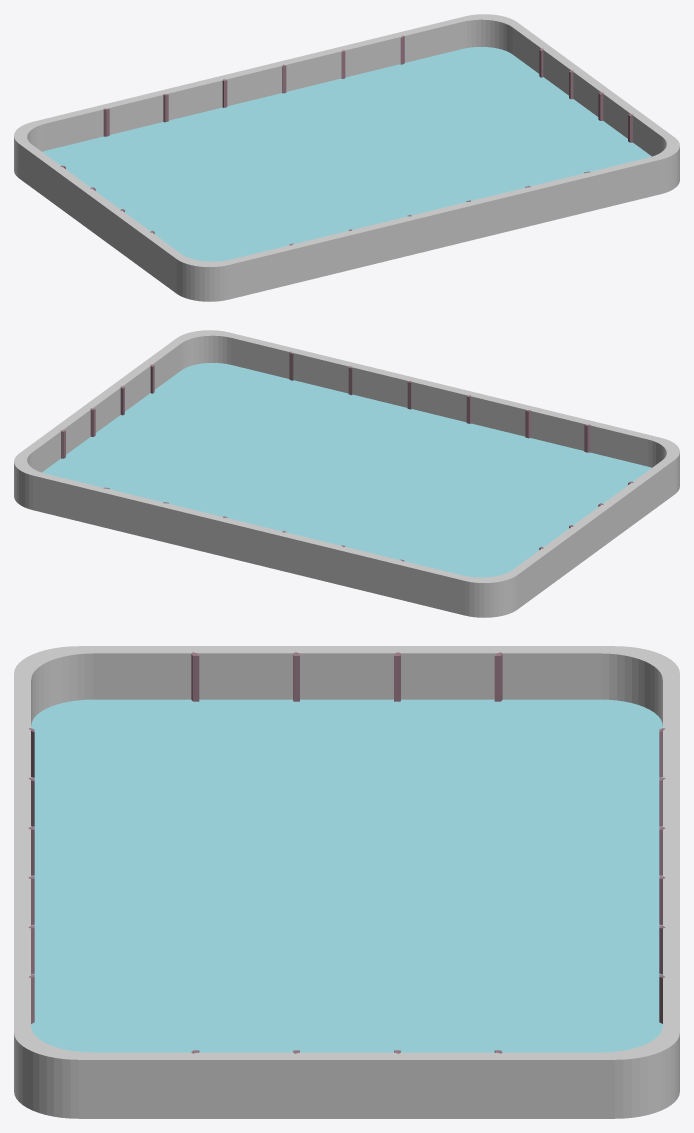
File: skatingPark.fbx
3 renders of one model, top to bottom at view 1: azimuth 30°, elevation 25°; view 2: azimuth 150°, elevation 25°; view 3: azimuth 270°, elevation 25°, orthographic. The views are drawn at different scales.
Visible parts, largest first — view 1: Arena; view 2: Arena; view 3: Arena.
Boxes of the visible parts, x1=… form: Arena: x1=14, y1=14, x2=679, y2=301; Arena: x1=14, y1=330, x2=679, y2=617; Arena: x1=14, y1=646, x2=679, y2=1118.
Bounding box in the file's own units: 191 × 12.67 × 130.
